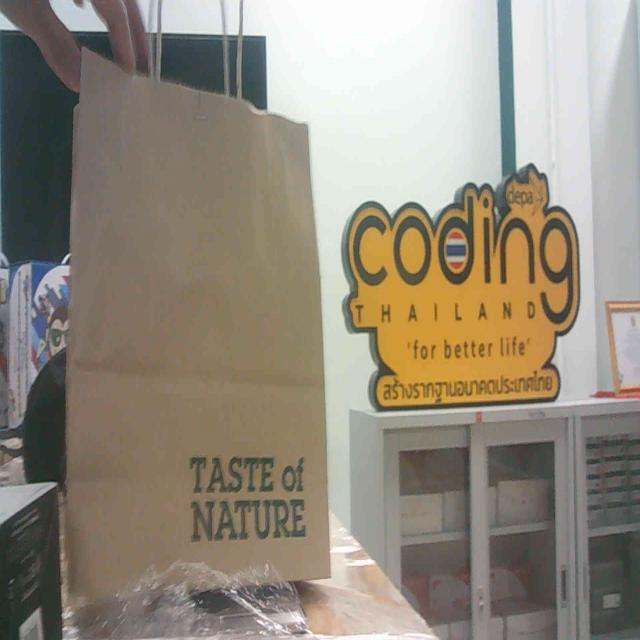bag: (64, 64, 330, 597)
